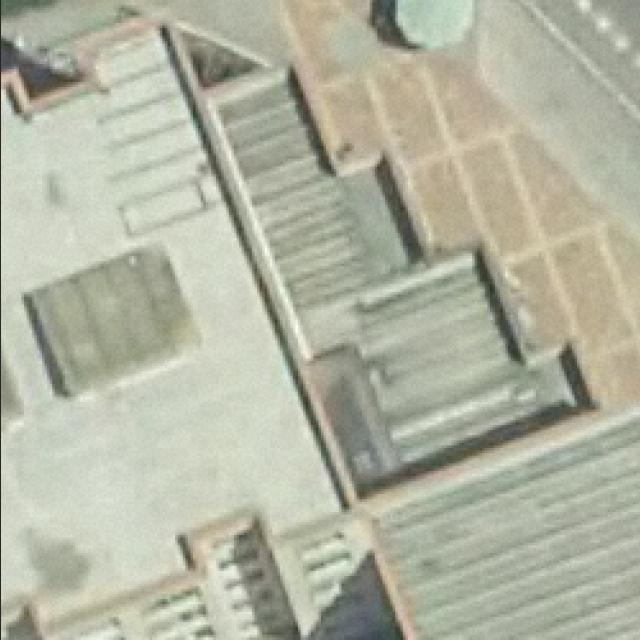vendedor_ambulante: (386, 0, 481, 56)
